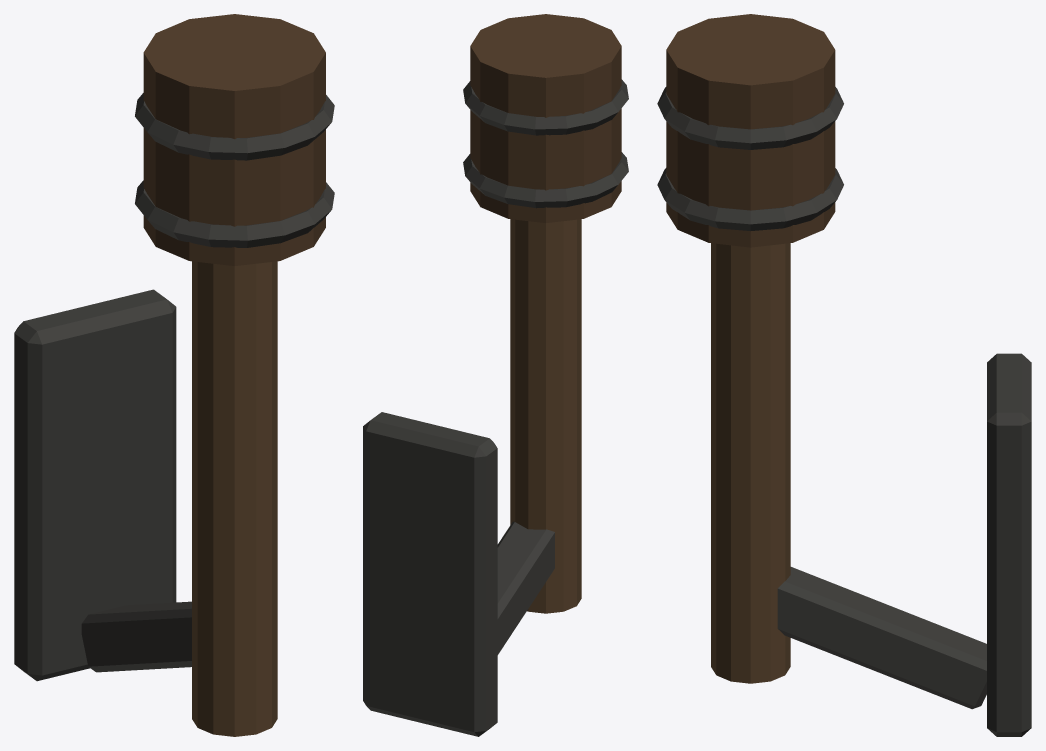
The model's file is torch_sconce.glb.
3 renders of one model, left to right at view 1: azimuth 30°, elevation 25°; view 2: azimuth 150°, elevation 25°; view 3: azimuth 270°, elevation 25°, orthographic. The views are drawn at different scales.
Visible parts, largest first — view 1: torch_sconce_Geometry; view 2: torch_sconce_Geometry; view 3: torch_sconce_Geometry.
Part boxes in pixels (x1,y1,x2,y2): torch_sconce_Geometry: (14, 14, 334, 736); torch_sconce_Geometry: (363, 14, 628, 736); torch_sconce_Geometry: (657, 14, 1031, 736).
Bounding box in the file's own units: 0.188 × 0.73 × 0.3765.
